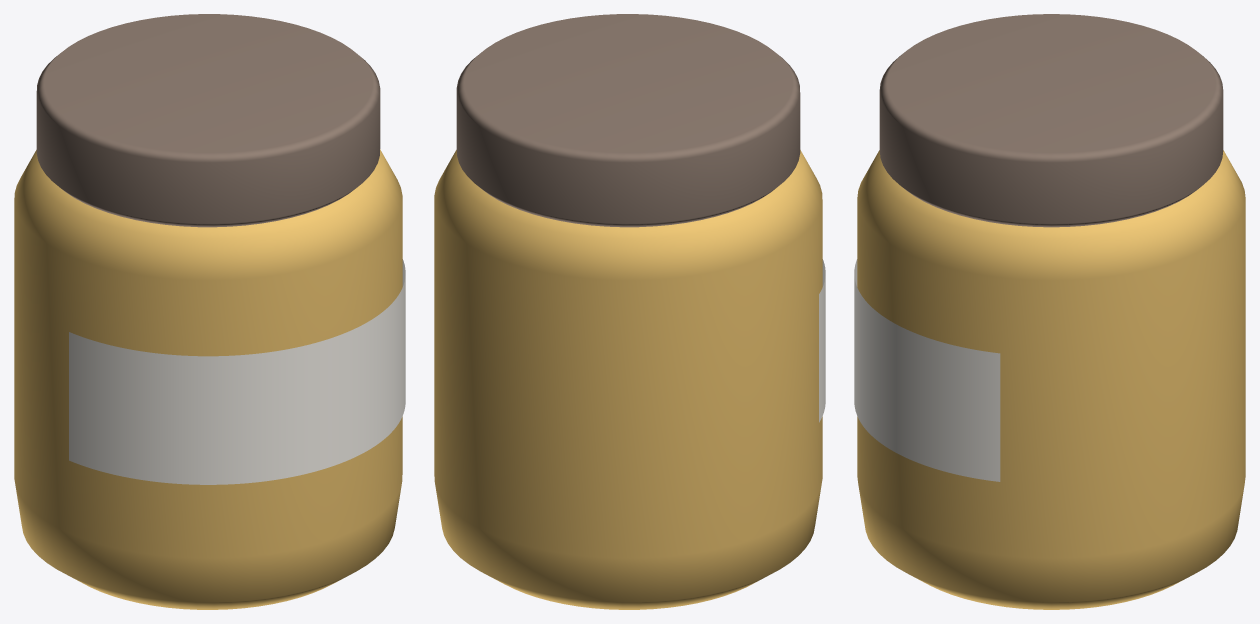
Rendered from sample-product.glb.
3 renders of one model, left to right at view 1: azimuth 30°, elevation 25°; view 2: azimuth 150°, elevation 25°; view 3: azimuth 270°, elevation 25°, orthographic.
Parts seen in each view (by area): view 1: body, lid, label; view 2: body, lid, label; view 3: body, lid, label.
Part boxes in pixels (x1,y1,x2,y2): body: (14,149,402,609); lid: (36,14,380,227); label: (69,259,405,484); body: (434,150,822,609); lid: (456,14,800,227); label: (819,259,825,422); body: (857,150,1245,609); lid: (879,14,1223,227); label: (854,259,1000,481).
Size of the model in its own units: 1.04 by 1.36 by 1.05.
